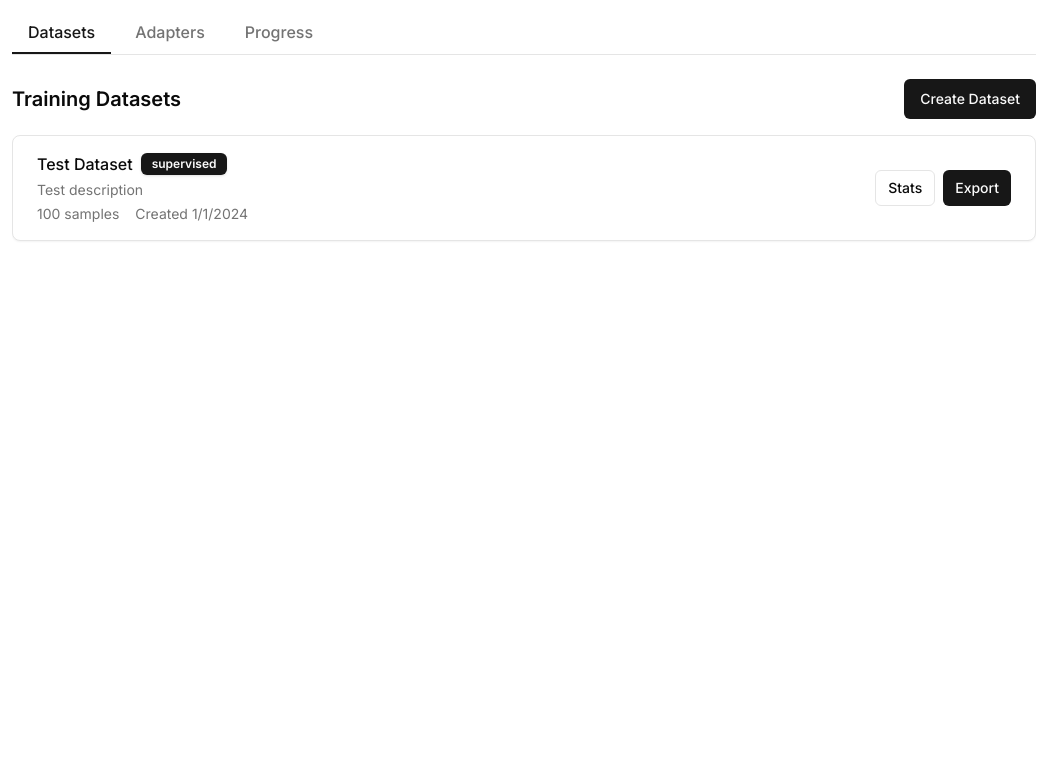
Test: TrainingDashboard › shows create dataset form when button clicked
Click the button "Create Dataset" at (970, 99), box 904,79 -> 1036,119
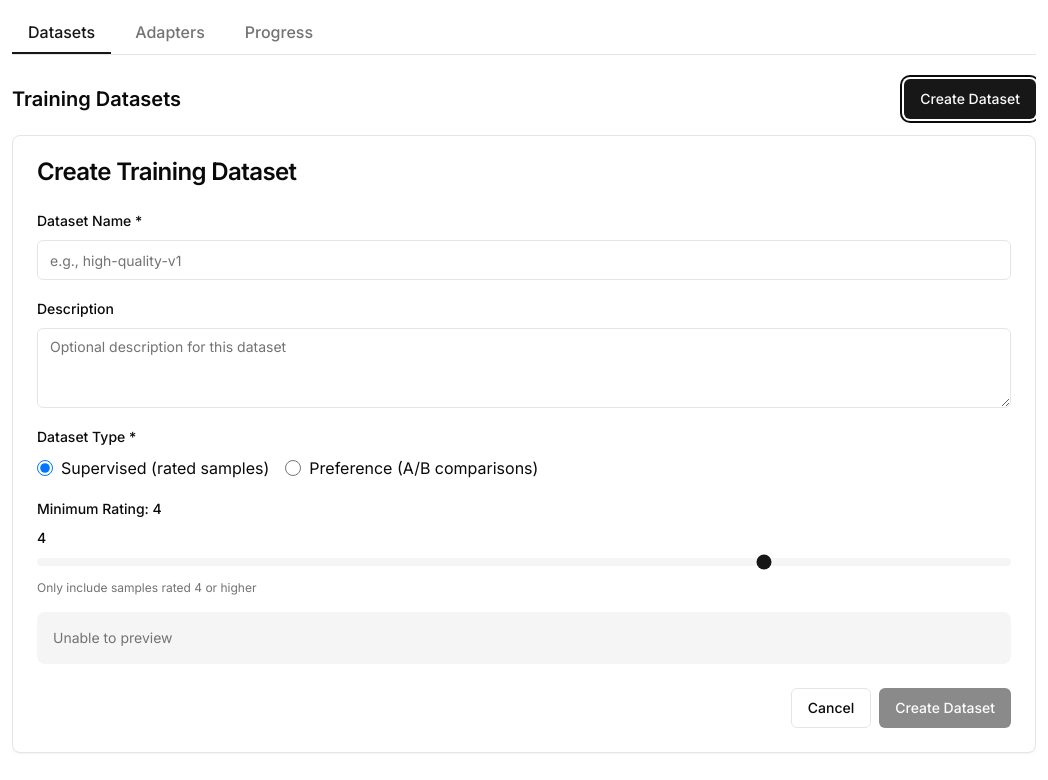
Now the button "Cancel" is shown, box 791,688 -> 871,728
